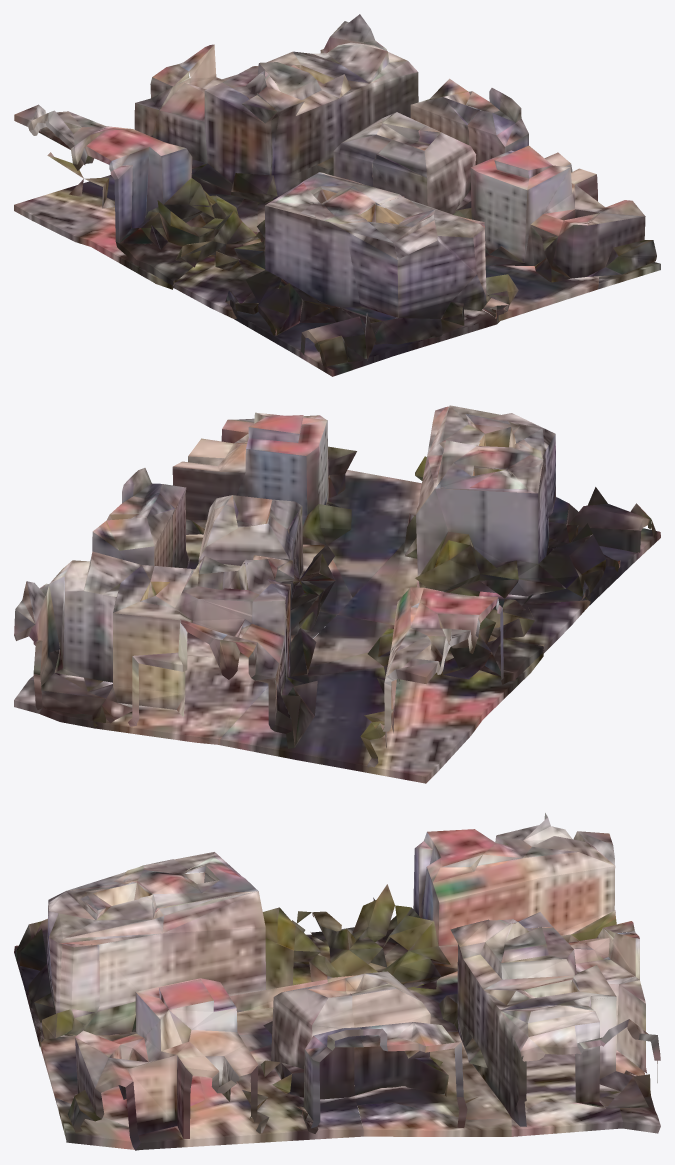
3 views of the same model, one above another, from view 1: azimuth 30°, elevation 25°; view 2: azimuth 150°, elevation 25°; view 3: azimuth 270°, elevation 25° (orthographic). The views are drawn at different scales.
Visible parts, largest first — view 1: Mesh_0; view 2: Mesh_0; view 3: Mesh_0.
Part boxes in pixels (x1,y1,x2,y2): Mesh_0: (14, 14, 660, 376); Mesh_0: (14, 405, 660, 783); Mesh_0: (14, 813, 660, 1150).
Size of the model in its own units: 133 by 41.14 by 165.
1 material, 1 textured.
